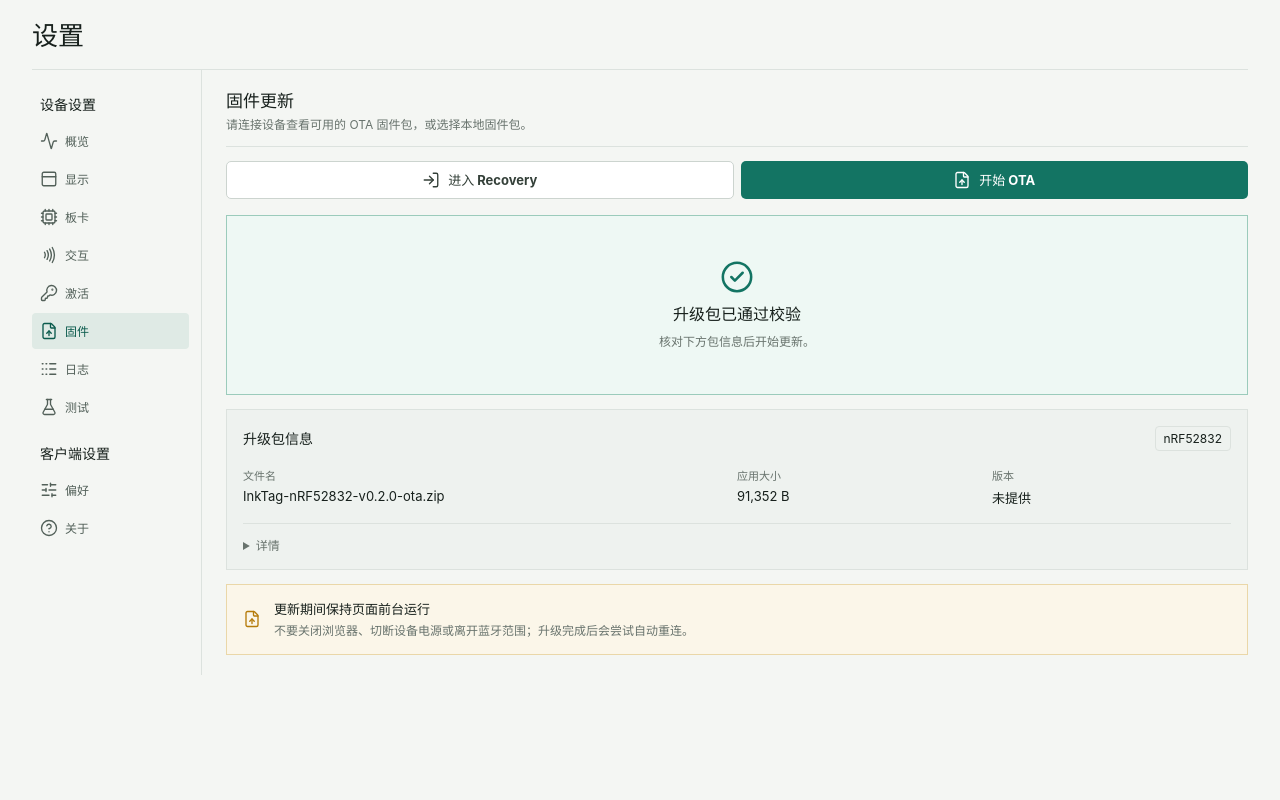
Test case: uses red alert styling for Recovery errors while keeping the exact entry action
Earlier steps of the test are not shown.
Click the button "进入 Recovery" at (480, 180), box [226,161,734,199]
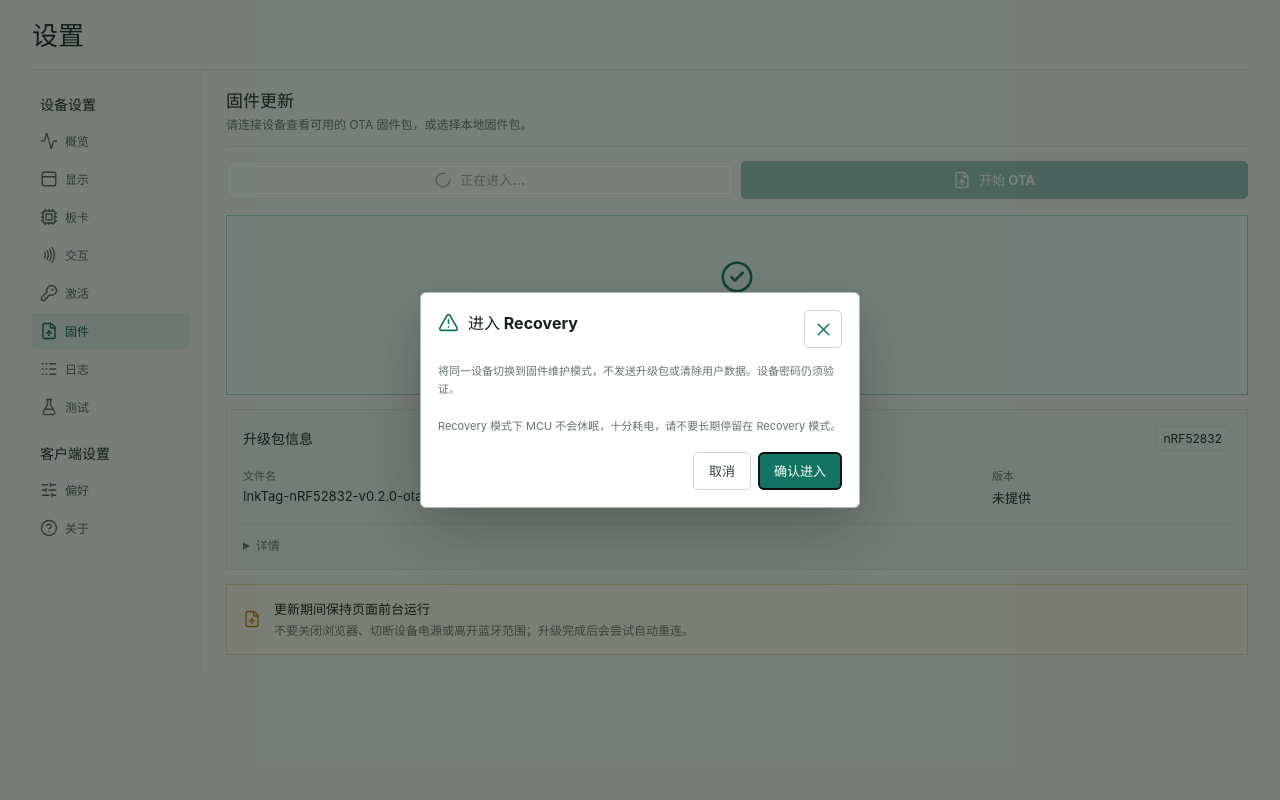
Click the button "确认进入" at (800, 471), box [758,452,842,490]
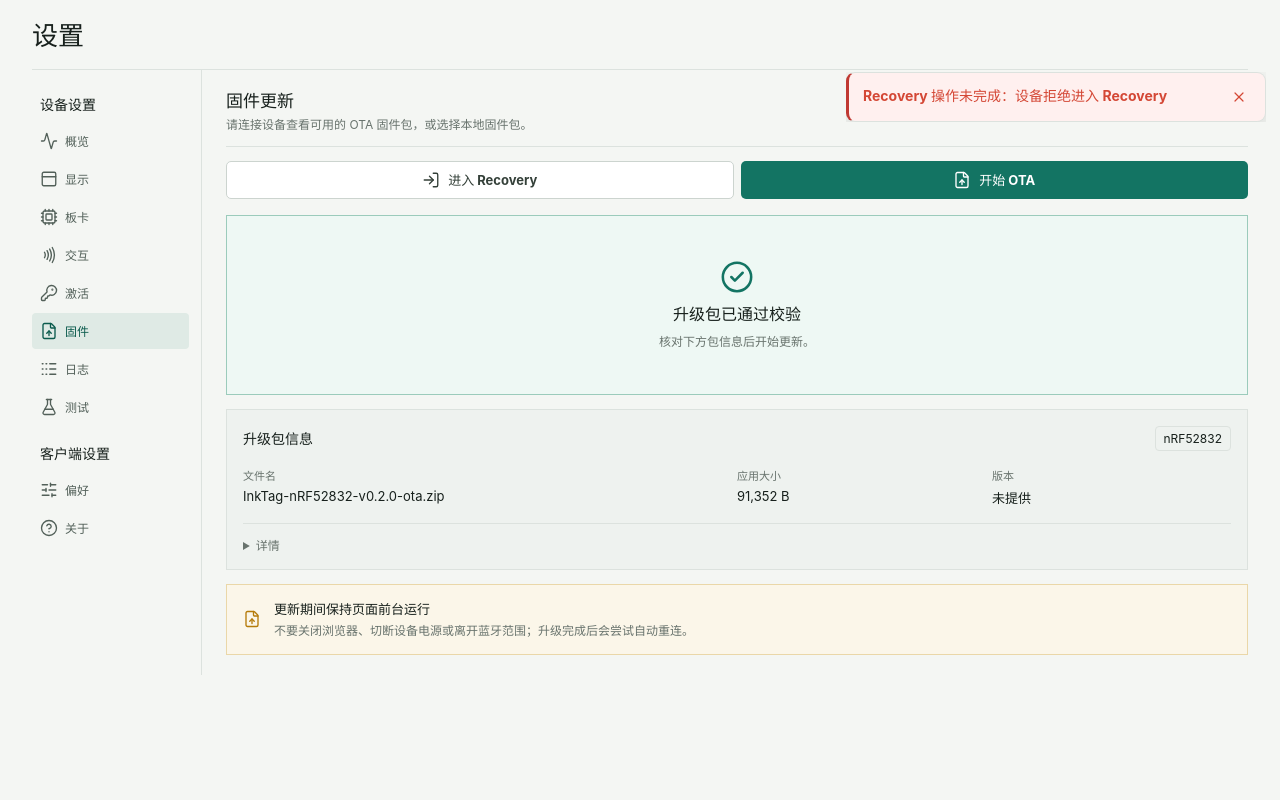
expect the message with class "error" shows "设备拒绝进入 Recovery": met, box [1015,87,1167,104]
